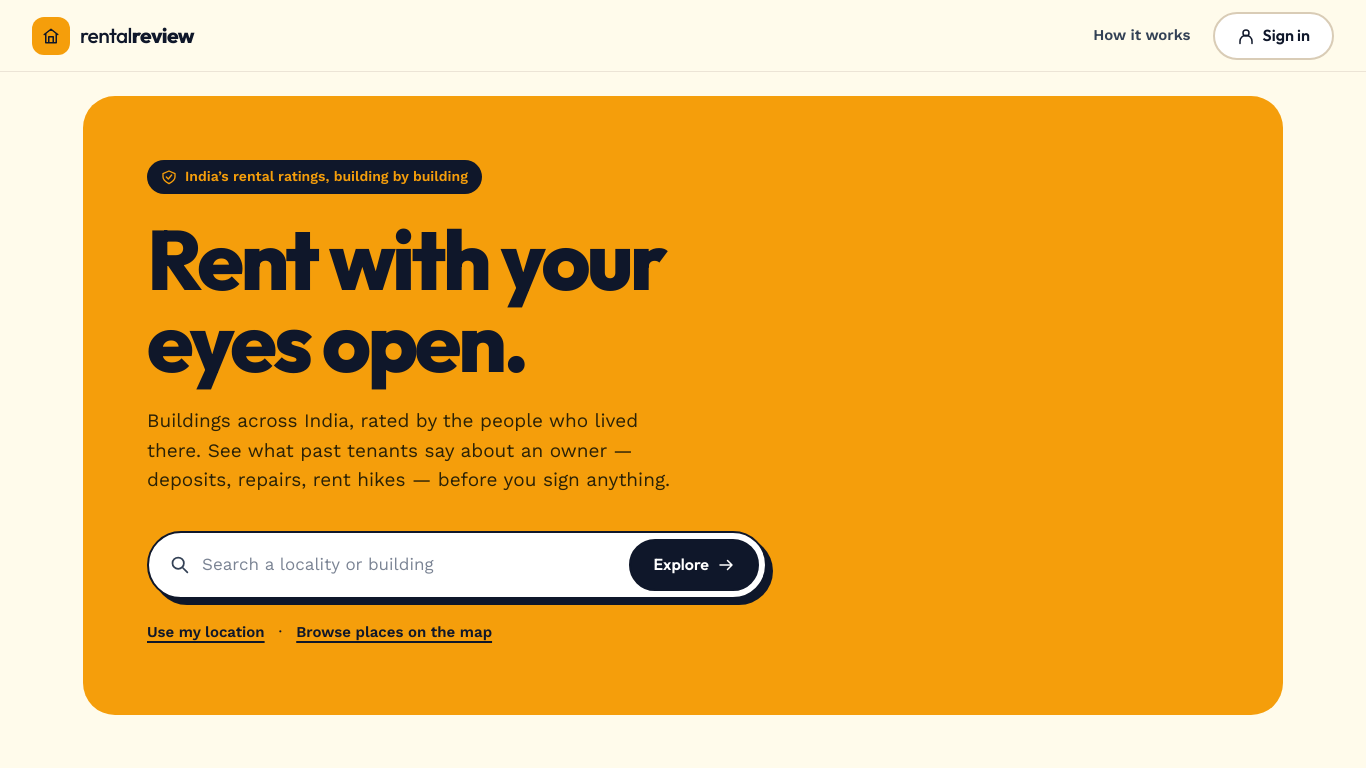
Test case: Rental Review › explains when Google sign-in is not configured and offers no phone login
Click the button "Sign in" at (1273, 36), box [1213,12,1334,60]
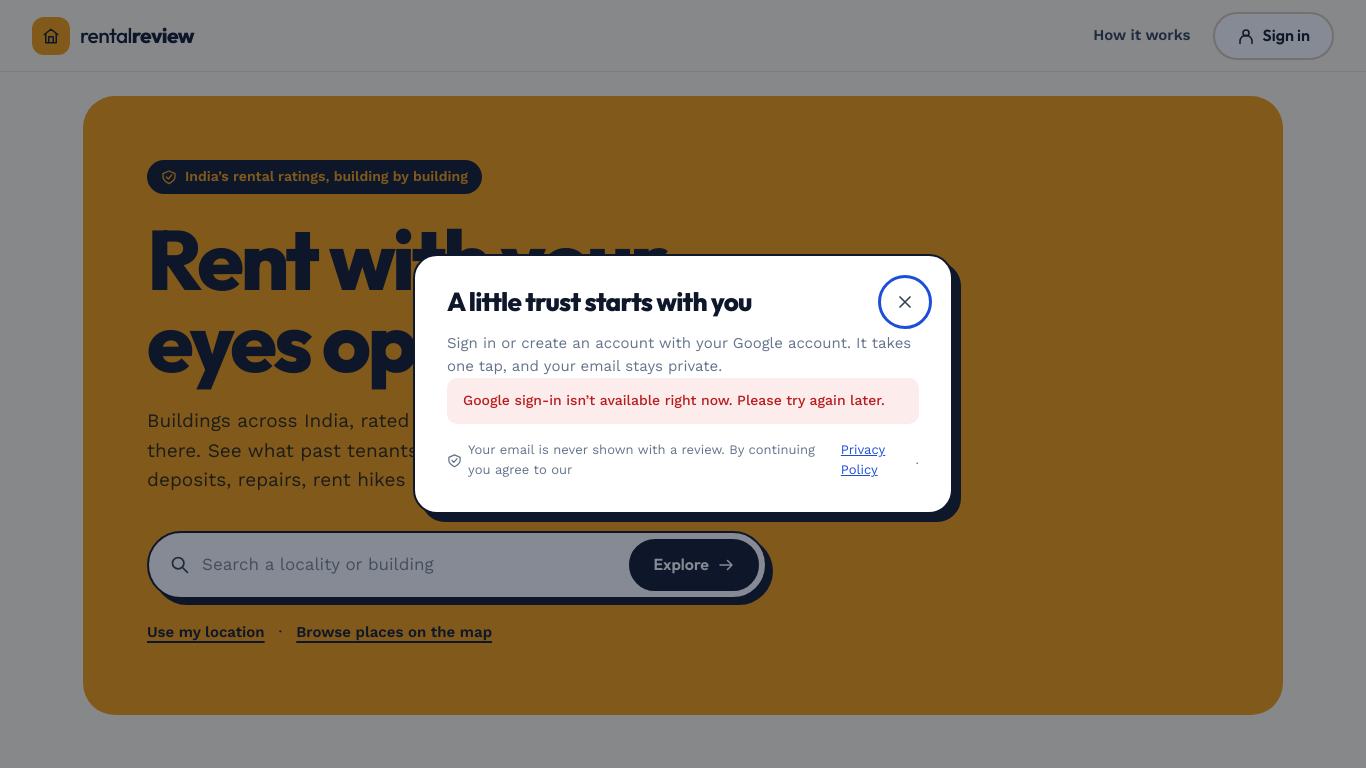
Check: the text "Google sign-in isn’t available right now. Please try again later." is shown, box [447,378,919,424]
